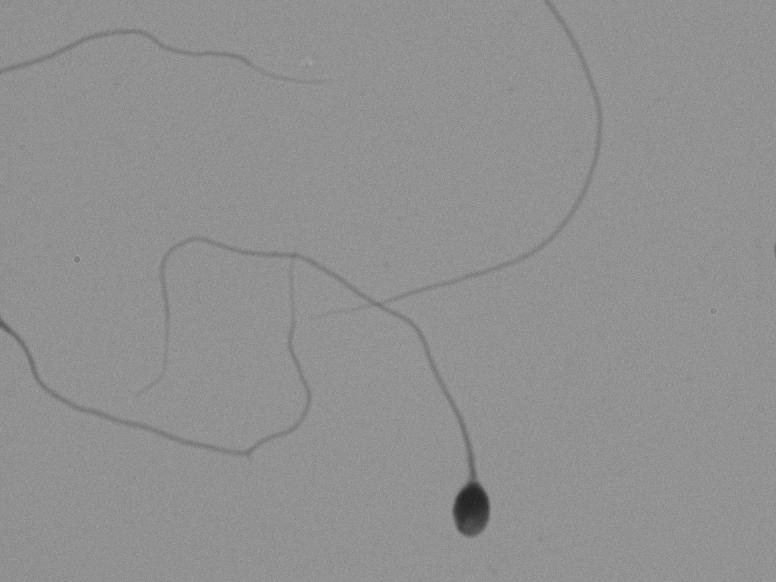Normal: (126, 187, 510, 550)
